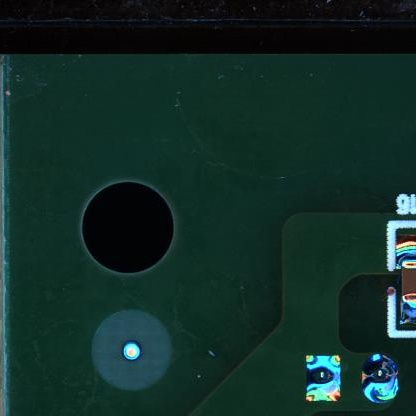spot: (361, 352, 400, 402), (305, 356, 339, 402)
